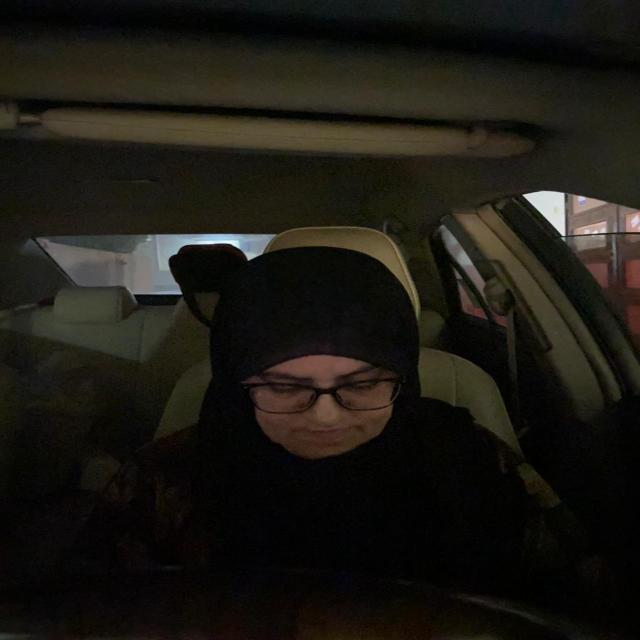drowsy: (198, 233, 443, 490)
